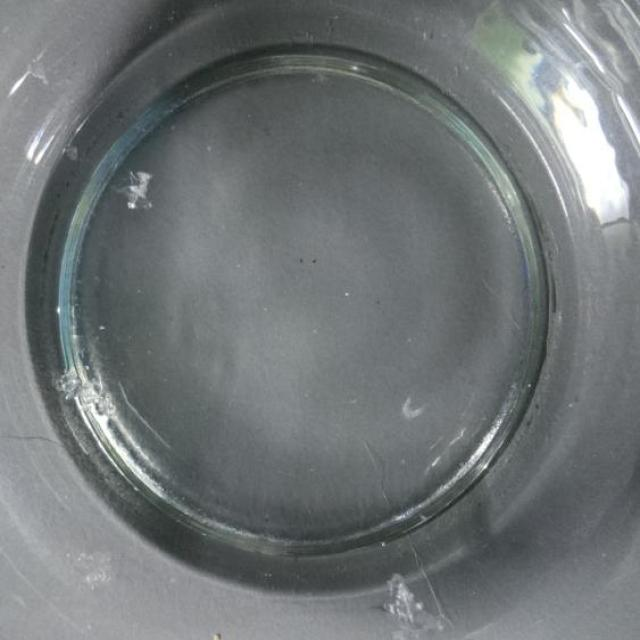fiber: (388, 576, 447, 636), (116, 171, 159, 219), (404, 388, 428, 424)
